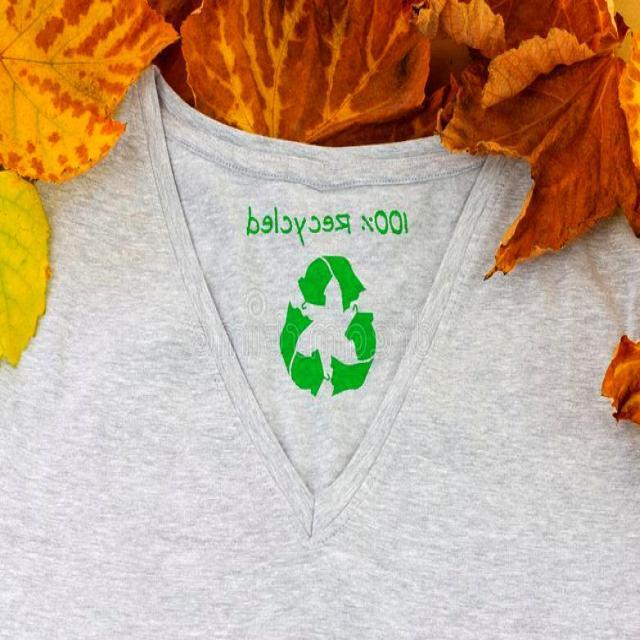clothes: (0, 170, 627, 640)
